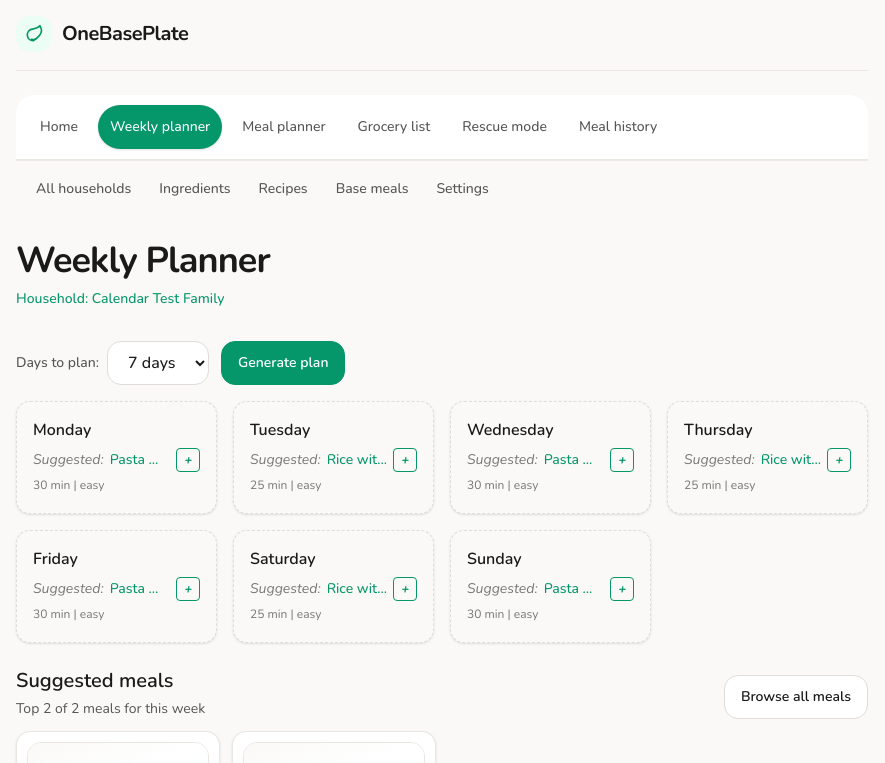
F021: Weekly Planner always shows day cards › can clear a day to show empty state with suggestion
What coordinates should you click on to do the following:
click the button with test id "generate-btn"
I would click on:
 (283, 363)
Its box is [221,341,345,385].
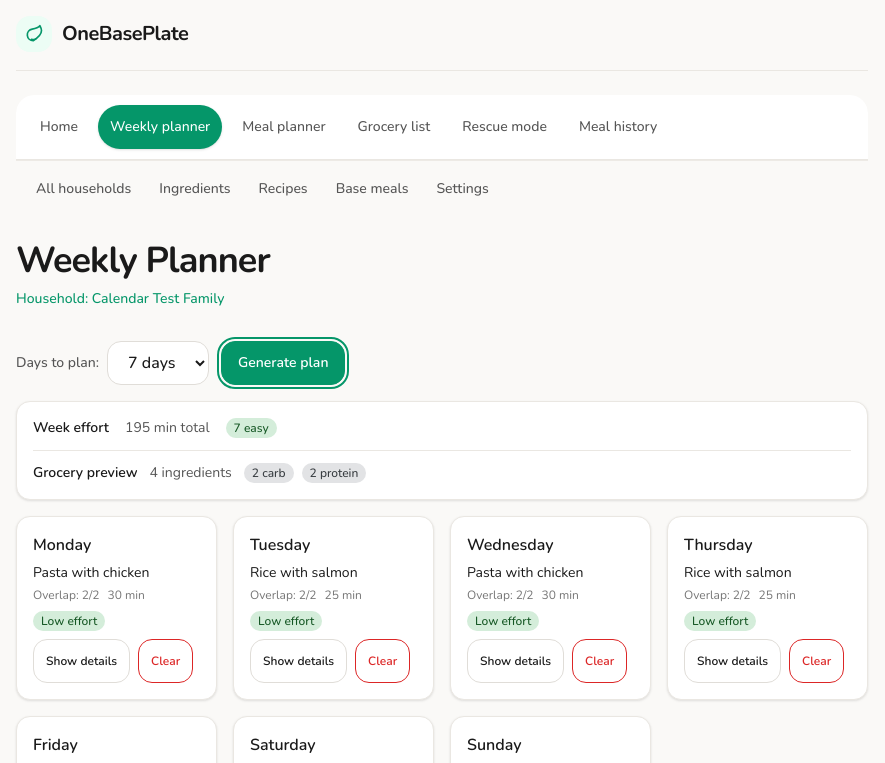
Result: the element with test id "empty-monday" is gone
// Clear Monday
What coordinates should you click on to do the following:
click the button with test id "clear-monday"
I would click on:
 (166, 661)
Its box is [138,639,193,683].
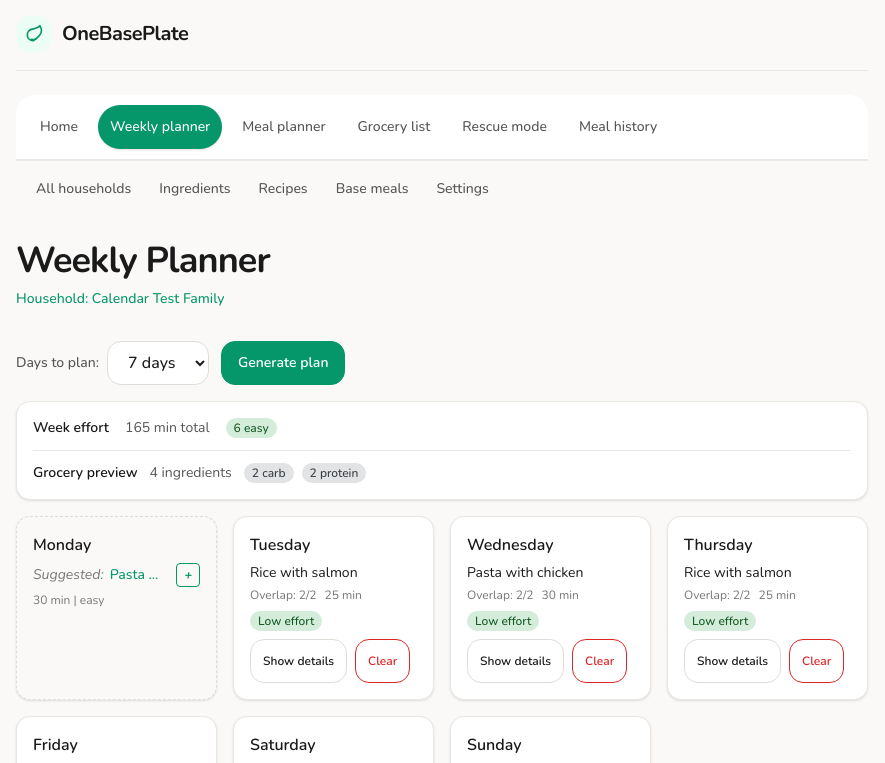
Result: the element with test id "empty-monday" is shown at [33,563,200,612]
Result: the text "Suggested:" is shown at [33,565,104,585]
